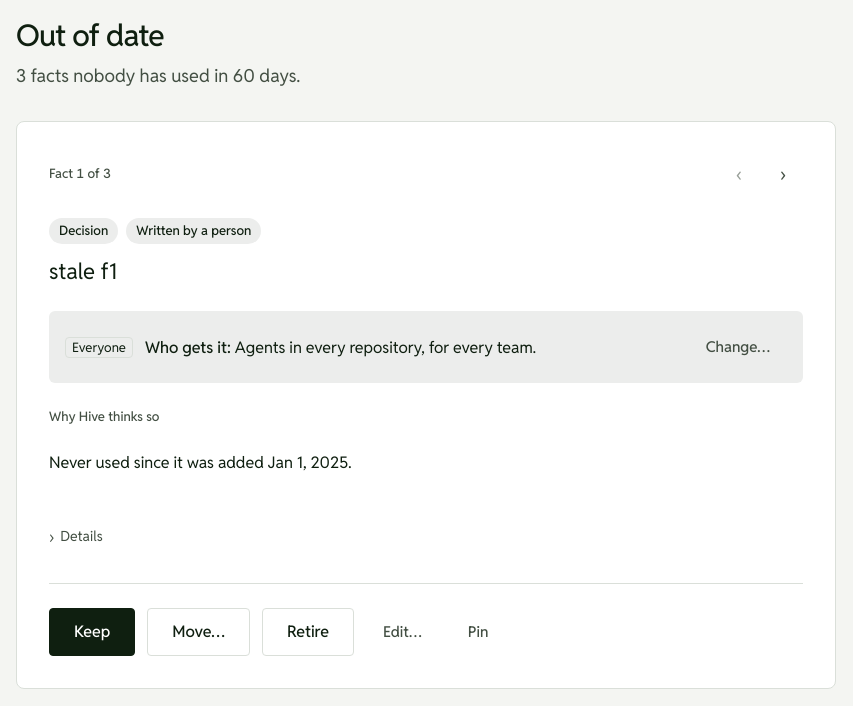
it: out of date facts › shows one card at a time, with the count and stale_days in the lede, and ‹ › to move
The image size is (853, 706).
Expected: the text "stale f1" is shown, top-left (49, 256), bottom-right (117, 284)
Expected: the heading "Out of date" is shown, top-left (16, 16), bottom-right (164, 55)
Click the button named "Next fact" at (783, 174), box top-left (763, 154), bottom-right (803, 194)
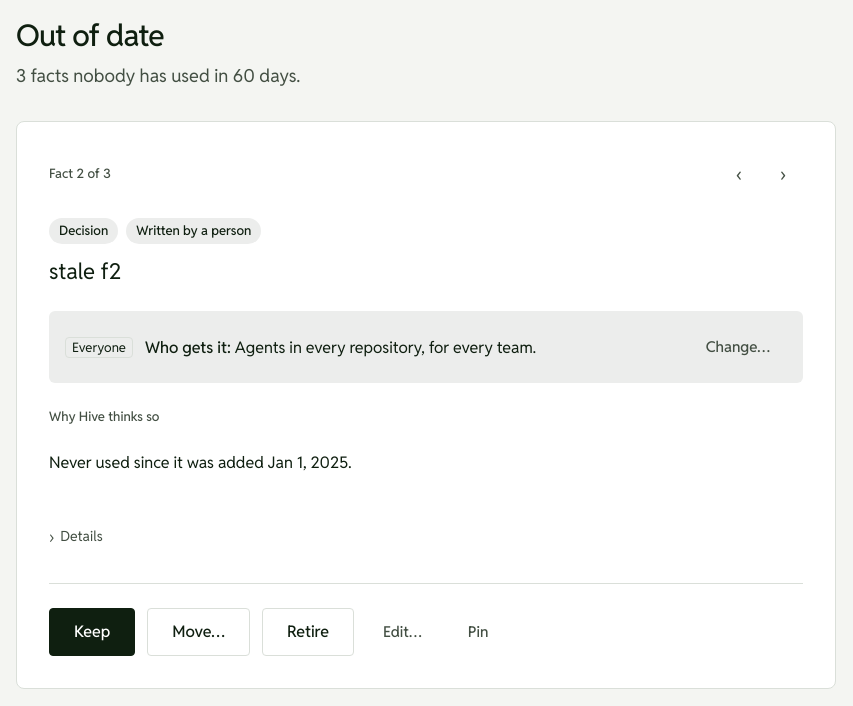
Click the button named "Next fact" at (783, 174), box top-left (763, 154), bottom-right (803, 194)
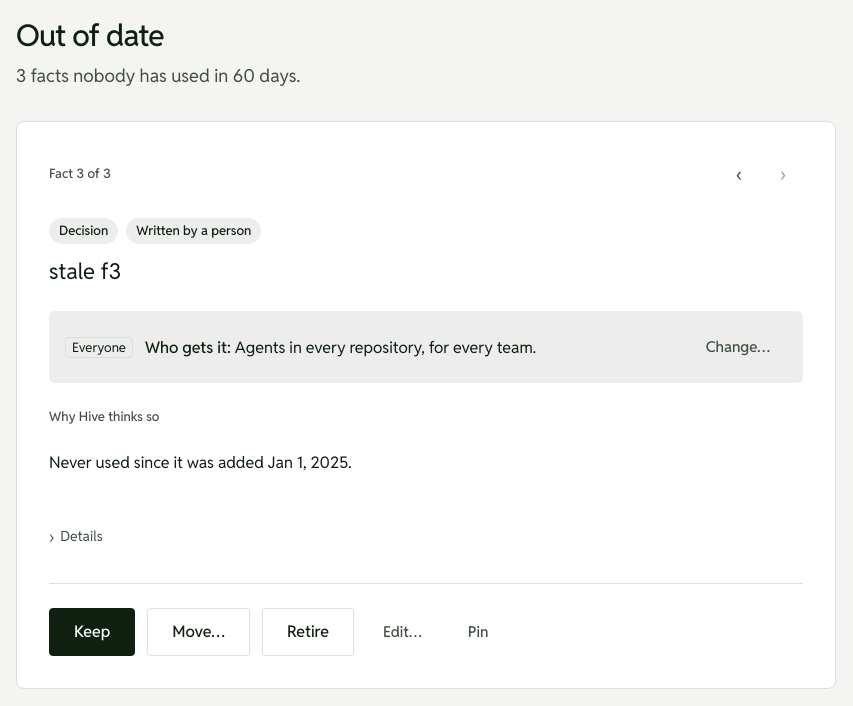
Click the button named "Previous fact" at (739, 174), box top-left (719, 154), bottom-right (759, 194)
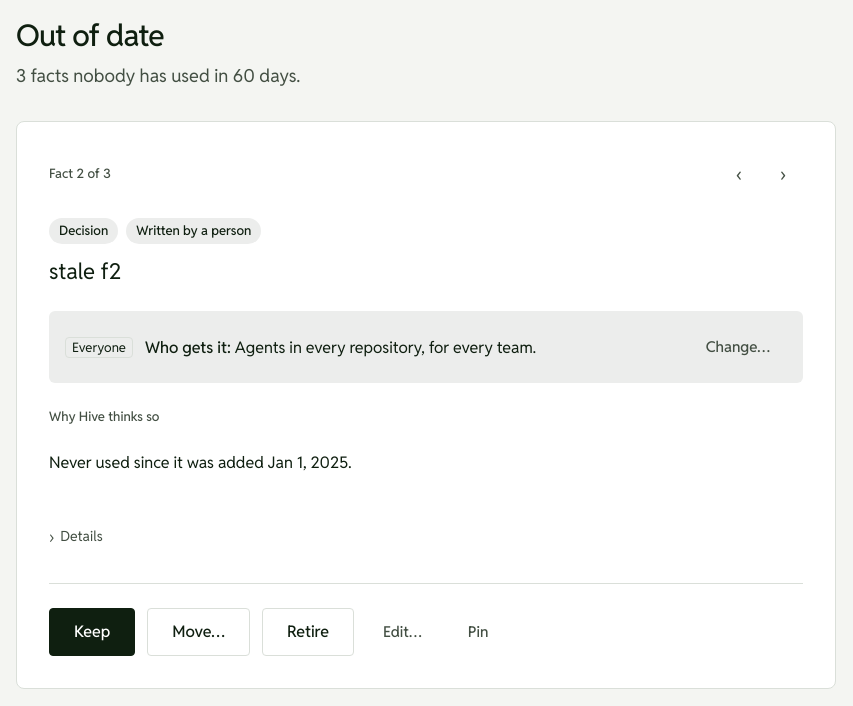
Expected: the text "stale f2" is shown, top-left (49, 256), bottom-right (121, 284)
